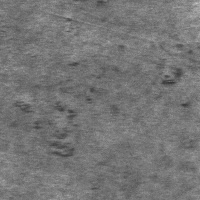rolled-in_scale: (101, 79, 194, 160), (0, 45, 47, 120)
